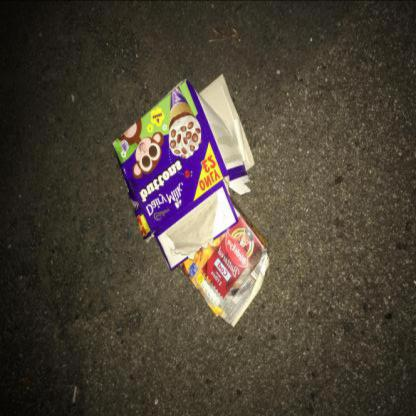Carton: (112, 74, 255, 270), (178, 199, 270, 327)
